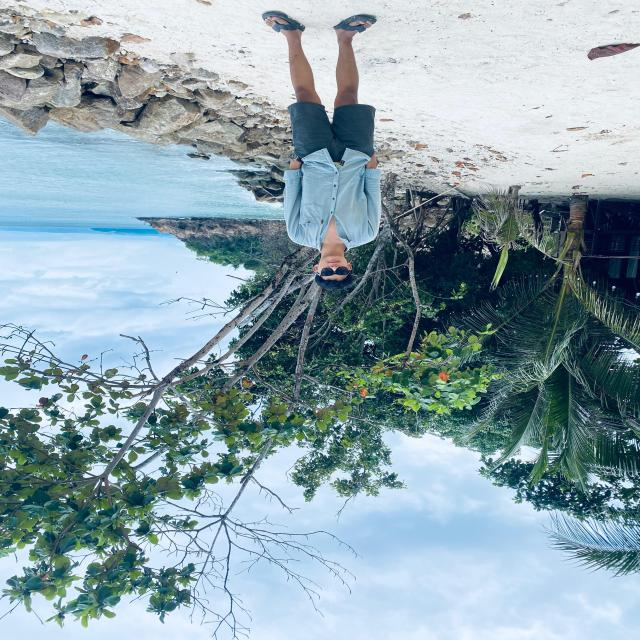nohelmet: (312, 246, 354, 292)
